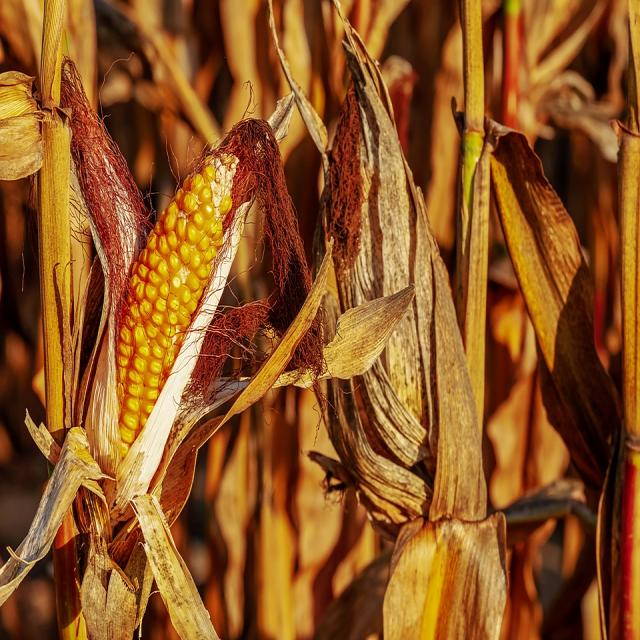Corn: (43, 150, 279, 521), (274, 63, 466, 506)
